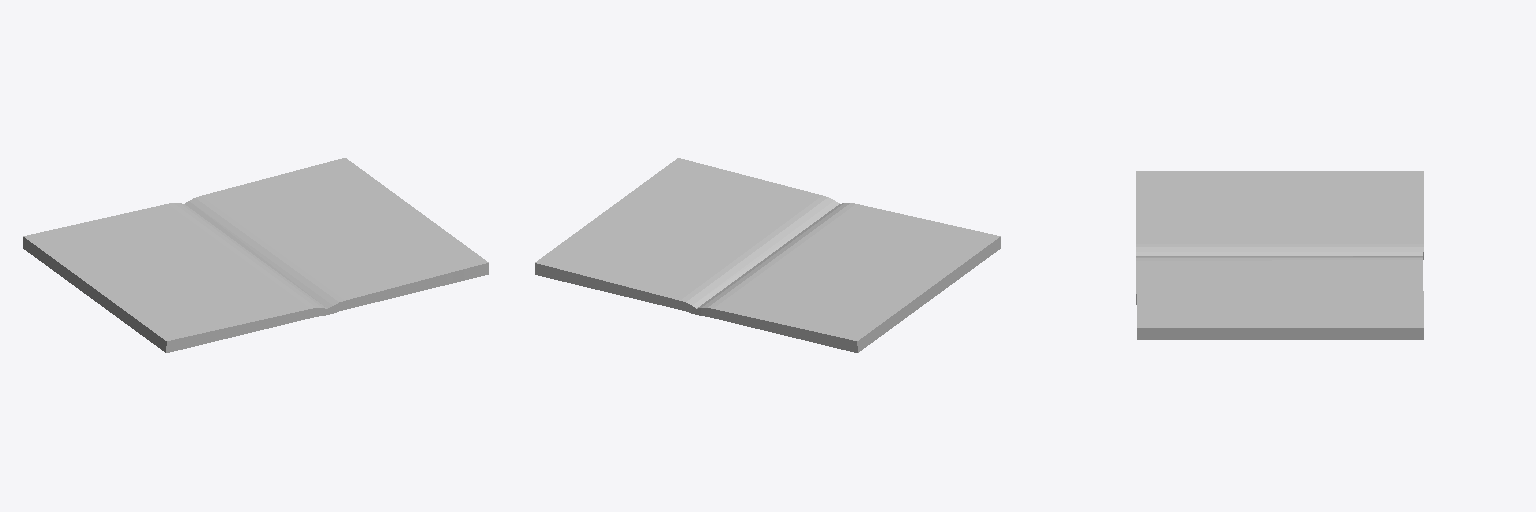
Rendered from book.obj.
3 renders of one model, left to right at view 1: azimuth 30°, elevation 25°; view 2: azimuth 150°, elevation 25°; view 3: azimuth 270°, elevation 25°, orthographic.
Parts seen in each view (by area): view 1: polySurface1; view 2: polySurface1; view 3: polySurface1.
Boxes of the visible parts, x1,y1,x2,y2 form: polySurface1: [23, 158, 488, 352]; polySurface1: [535, 158, 1000, 352]; polySurface1: [1136, 171, 1423, 339].
Bounding box in the file's own units: 2.09 × 0.0797 × 1.61.